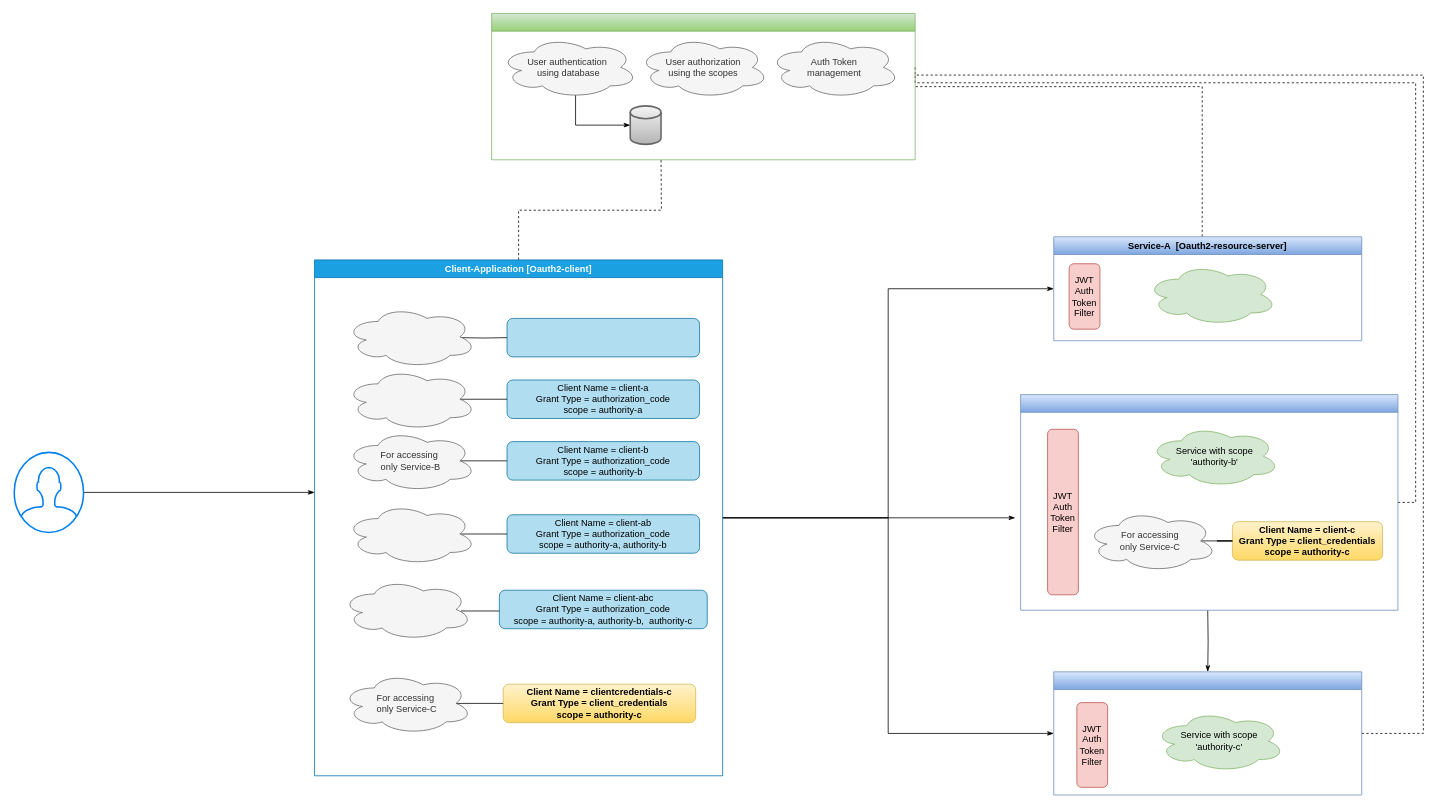
The diagram is 1438 pixels wide and 809 high, and some of its shapes have lost their labels. Each missing label, with the box of its shape:
Auth Server [Oauth2-authorization-server]: (491, 13, 915, 160)
Client Name = login-client Grant Type = authorization_code scope = openid: (506, 318, 700, 357)
For accessing both Service-A & B: (345, 502, 476, 565)
For accessing only Service-A: (345, 368, 476, 430)
For accessing Service-A, B & C: (341, 578, 472, 640)
Responsible for authentication: (345, 305, 476, 368)
Service with scope 'authority-a': (1145, 263, 1277, 325)
Service-B [Oauth2-resource-server]: (1020, 394, 1398, 610)
Service-C [Oauth2-resource-server]: (1053, 671, 1362, 795)
User Agent (Browser): (13, 451, 84, 533)
